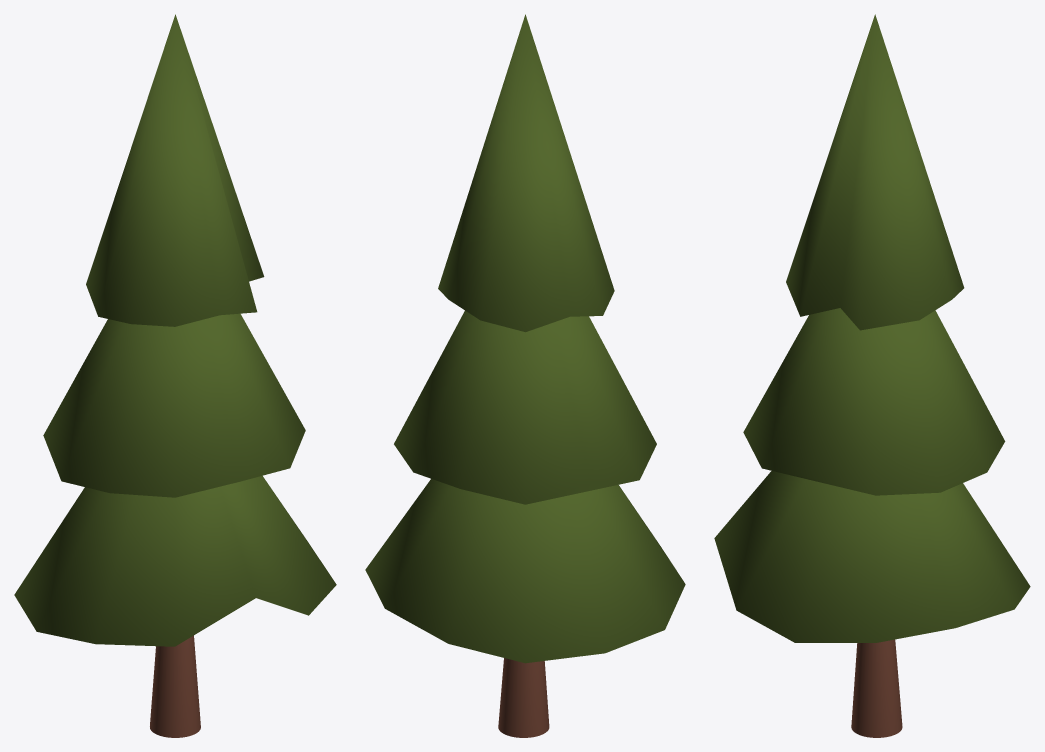
The model's file is Pine.glb.
3 renders of one model, left to right at view 1: azimuth 30°, elevation 25°; view 2: azimuth 150°, elevation 25°; view 3: azimuth 270°, elevation 25°, orthographic.
Parts seen in each view (by area): view 1: Tree 2; view 2: Tree 2; view 3: Tree 2.
Part boxes in pixels (x1=…): Tree 2: x1=14, y1=14, x2=336, y2=737; Tree 2: x1=365, y1=14, x2=685, y2=737; Tree 2: x1=714, y1=14, x2=1030, y2=737.
Bounding box in the file's own units: 1.11 × 2.76 × 1.11.
1 material, 1 textured.
